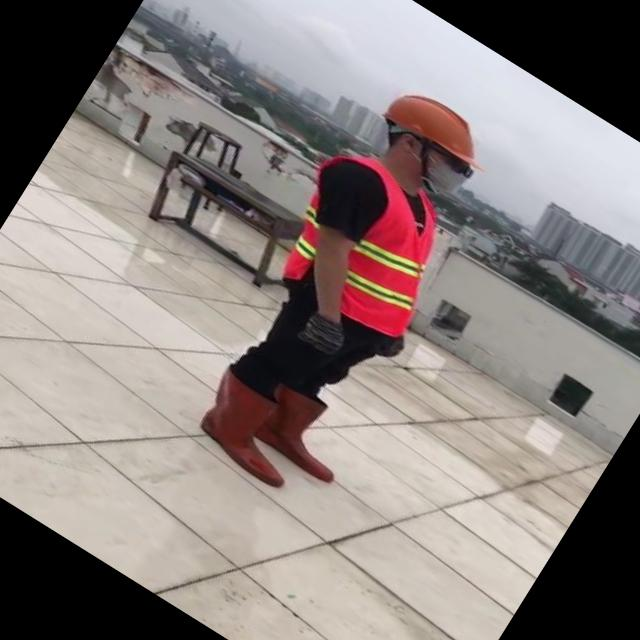hard_hat: (376, 75, 495, 171)
safety_vest: (257, 134, 475, 345)
vehicle: (157, 59, 538, 512)
work_boots: (182, 362, 324, 494), (252, 380, 364, 488)
